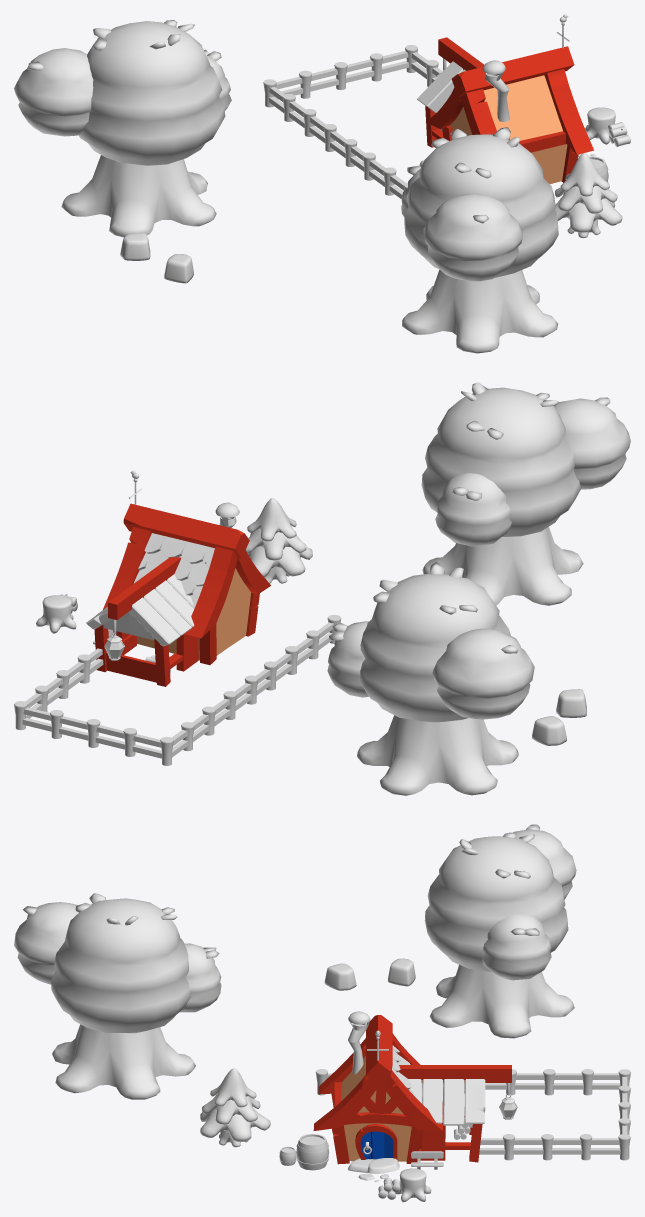
Rendered from HOuseblockin.fbx.
3 renders of one model, top to bottom at view 1: azimuth 30°, elevation 25°; view 2: azimuth 150°, elevation 25°; view 3: azimuth 270°, elevation 25°, orthographic. The views are drawn at different scales.
Visible parts, largest first — view 1: Big_Tree.001, Big_Tree, PAREDES, Cubo.005, Pine.001, Fence.001, Cube.005, Fence.003, Fence.002, Cube.013, Cylinder.008, Cylinder.020 (+5 smaller); view 2: Big_Tree.001, Big_Tree, Cubo.005, Pine.001, Cube.013, Fence.001, Cube.005, Cube.003, Fence.003, PAREDES, Fence, Fence.002 (+8 smaller); view 3: Big_Tree, Big_Tree.001, Cubo.005, Pine.001, Cube.013, Fence, Fence.003, Cube.007, PAREDES, Cube.005, puerta, Barils (+7 smaller).
Part boxes in pixels (box(x1,y1,x2,y2)): Big_Tree.001: box(14, 20, 231, 237); Big_Tree: box(401, 127, 558, 353); PAREDES: box(449, 75, 567, 183); Cubo.005: box(426, 69, 594, 154); Pine.001: box(555, 153, 622, 238); Fence.001: box(263, 51, 408, 107); Cube.005: box(451, 46, 574, 97); Fence.003: box(269, 87, 357, 166); Fence.002: box(350, 146, 407, 198); Cube.013: box(417, 61, 465, 112); Cylinder.008: box(482, 60, 509, 121); Cylinder.020: box(585, 107, 615, 144); Big_Tree.001: box(327, 562, 534, 795); Big_Tree: box(421, 382, 630, 605); Cubo.005: box(103, 527, 270, 638); Pine.001: box(245, 498, 312, 583); Cube.013: box(86, 574, 194, 646); Fence.001: box(22, 707, 173, 765); Cube.005: box(123, 503, 249, 558); Cube.003: box(134, 533, 214, 608); Fence.003: box(172, 675, 258, 757); PAREDES: box(137, 568, 250, 660); Fence: box(14, 648, 103, 730); Fence.002: box(256, 614, 341, 695); Big_Tree: box(14, 893, 221, 1099); Big_Tree.001: box(424, 824, 576, 1038); Cubo.005: box(313, 1033, 443, 1130); Pine.001: box(200, 1068, 270, 1147); Cube.013: box(408, 1079, 485, 1125); Fence: box(479, 1134, 630, 1160); Fence.003: box(485, 1069, 620, 1095); Cube.007: box(398, 1065, 511, 1082); PAREDES: box(341, 1056, 411, 1161); Cube.005: box(366, 1015, 392, 1086); puerta: box(355, 1124, 397, 1159); Barils: box(296, 1133, 329, 1170).
Bounding box in the file's own units: 17.16 × 5.55 × 18.35.
